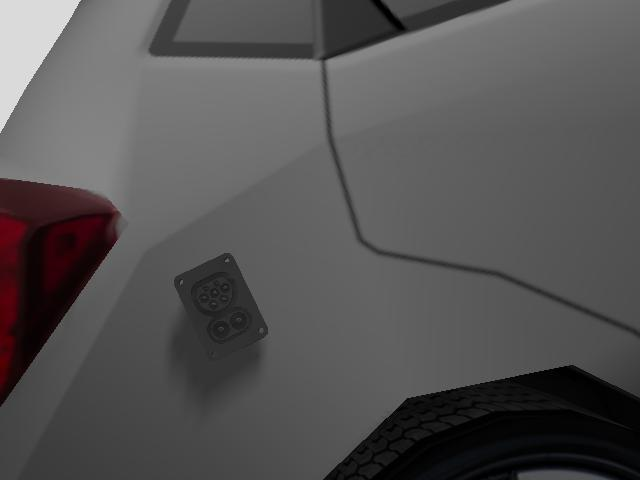EV-socket: (171, 250, 275, 368)
